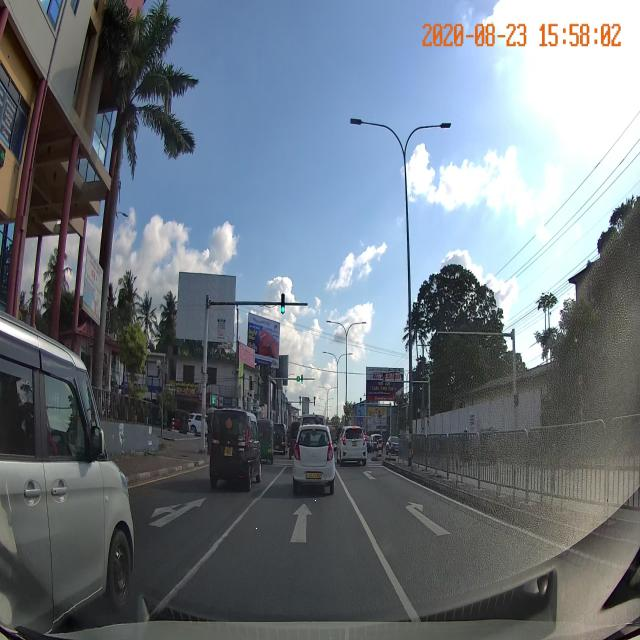forward: (213, 498, 376, 545)
